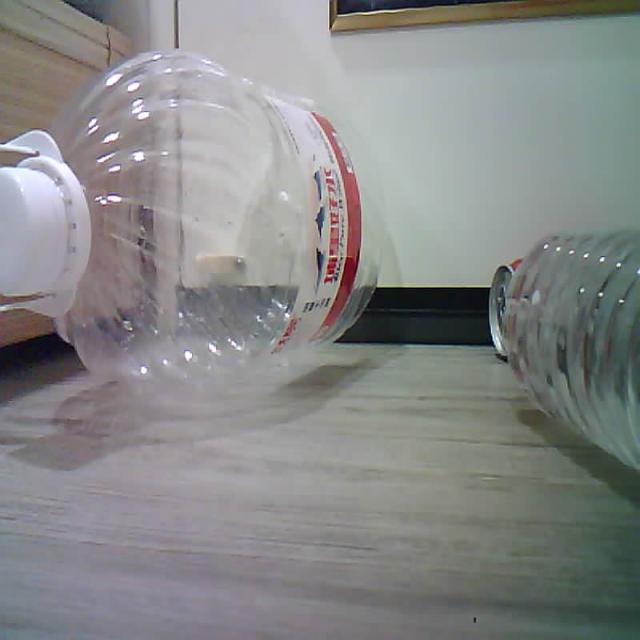bottle: (0, 49, 379, 384), (490, 230, 639, 469)
